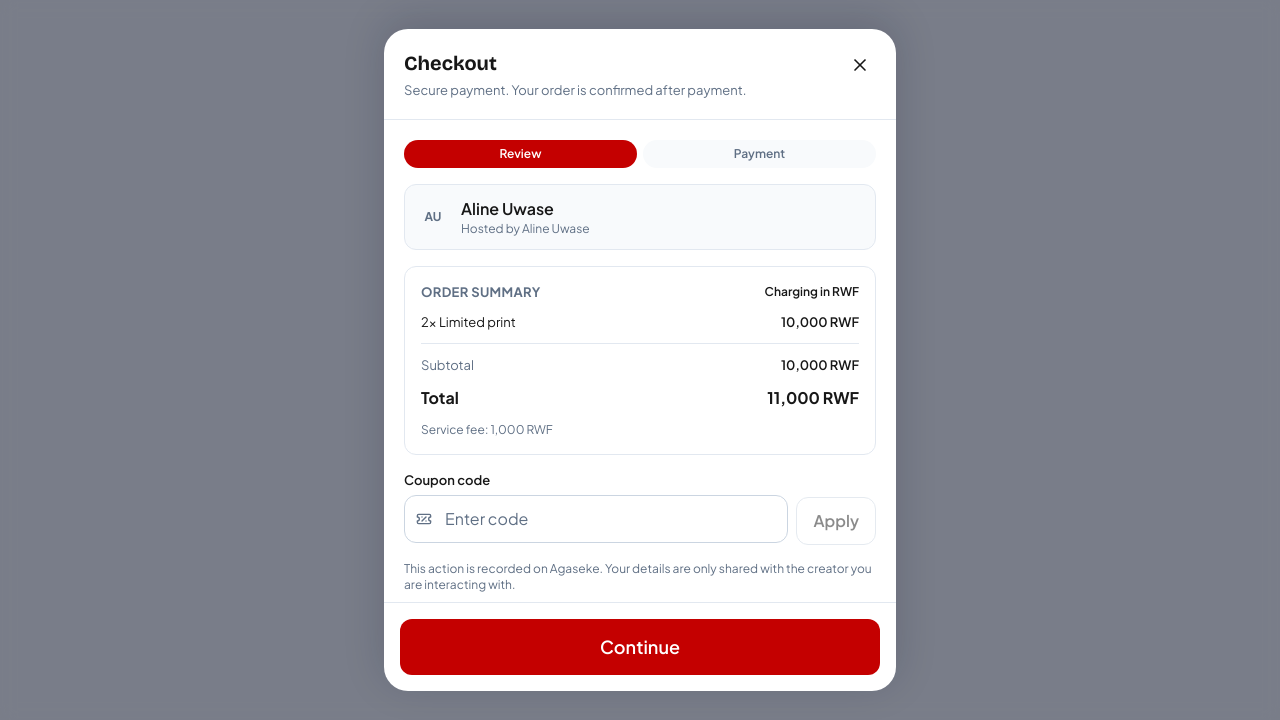
checkout sheet › shows a retryable failure when payment cannot start
The image size is (1280, 720).
Click the button "Continue".
click(640, 647)  # box [400,619,880,675]
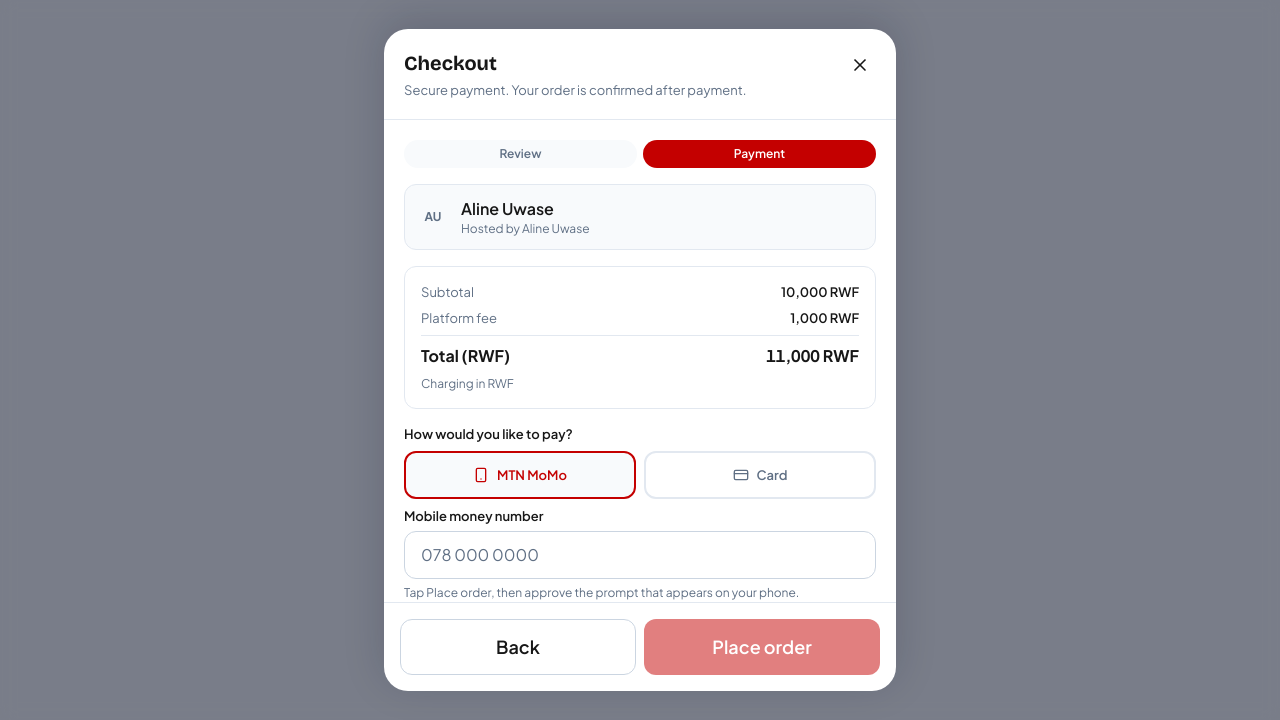
Type "078 123 4567" into the field labelled "Mobile money number".
click(640, 555); type("078 123 4567")  # box [404,531,876,579]
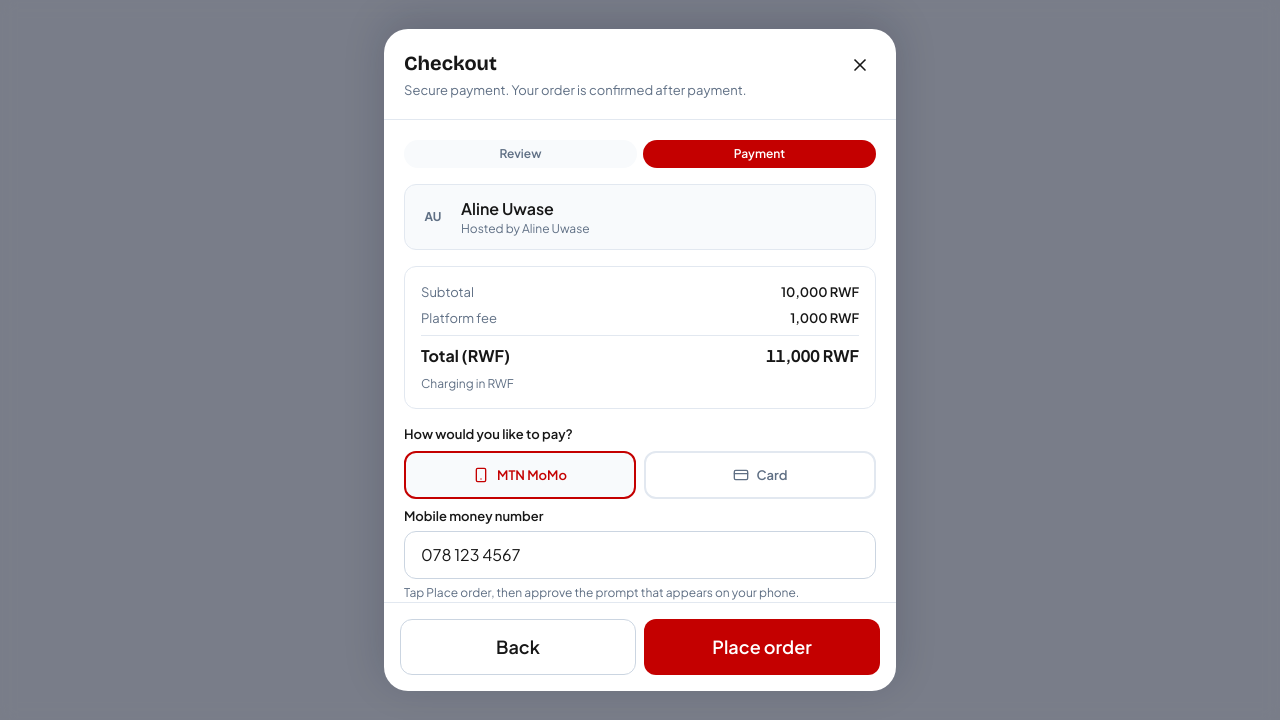
Click the button "Place order".
click(762, 647)  # box [644,619,880,675]
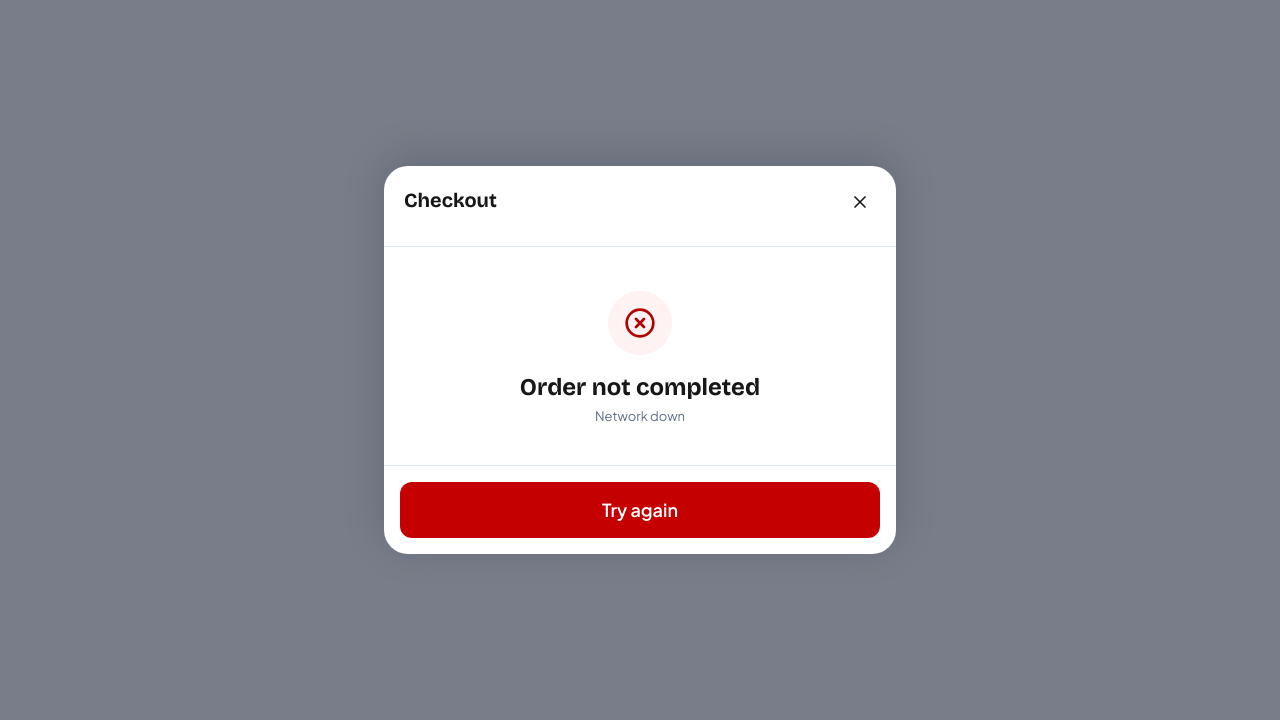
Now the heading "Order not completed" is shown, box [520,371,760,403]
Now the button "Try again" is shown, box [400,482,880,538]
